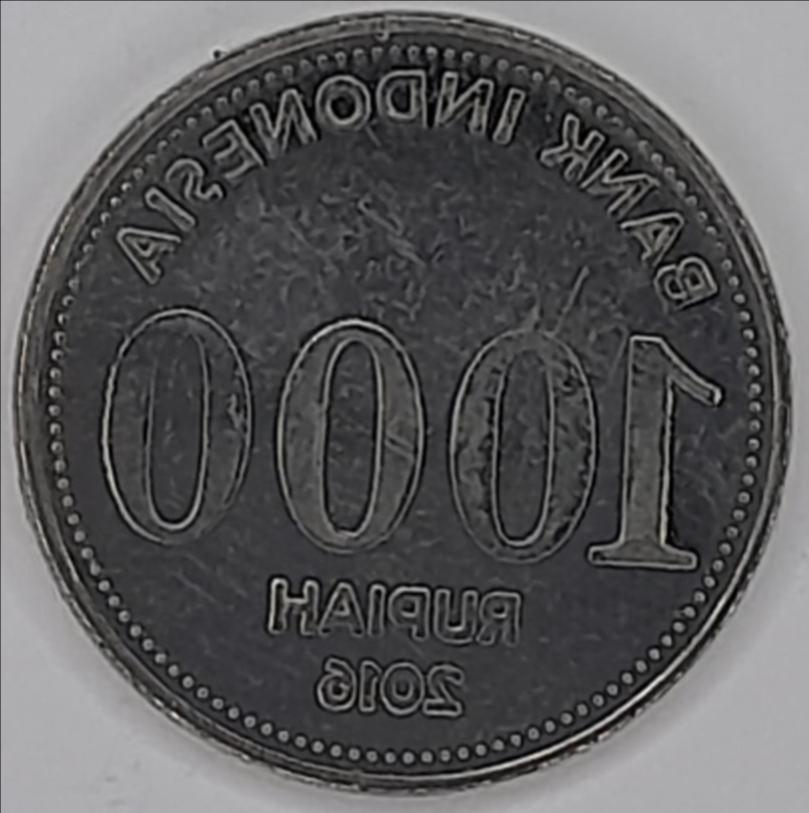coin_1000_e2016: (14, 16, 798, 813)
